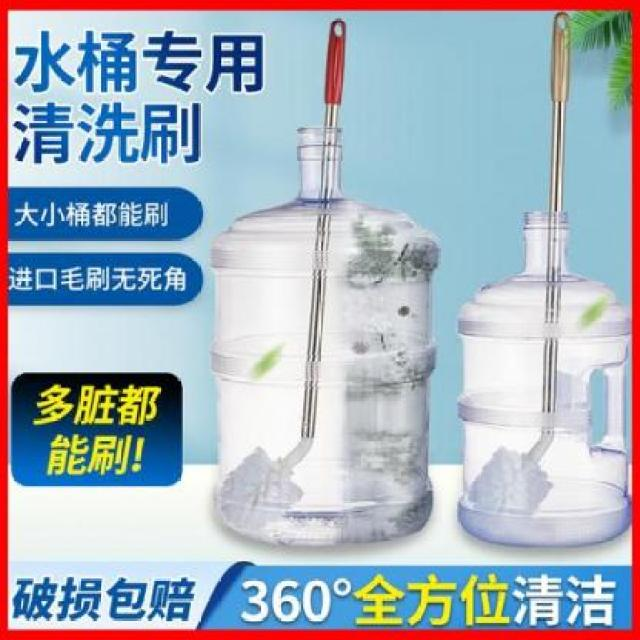coolerbottle: (208, 121, 443, 557)
